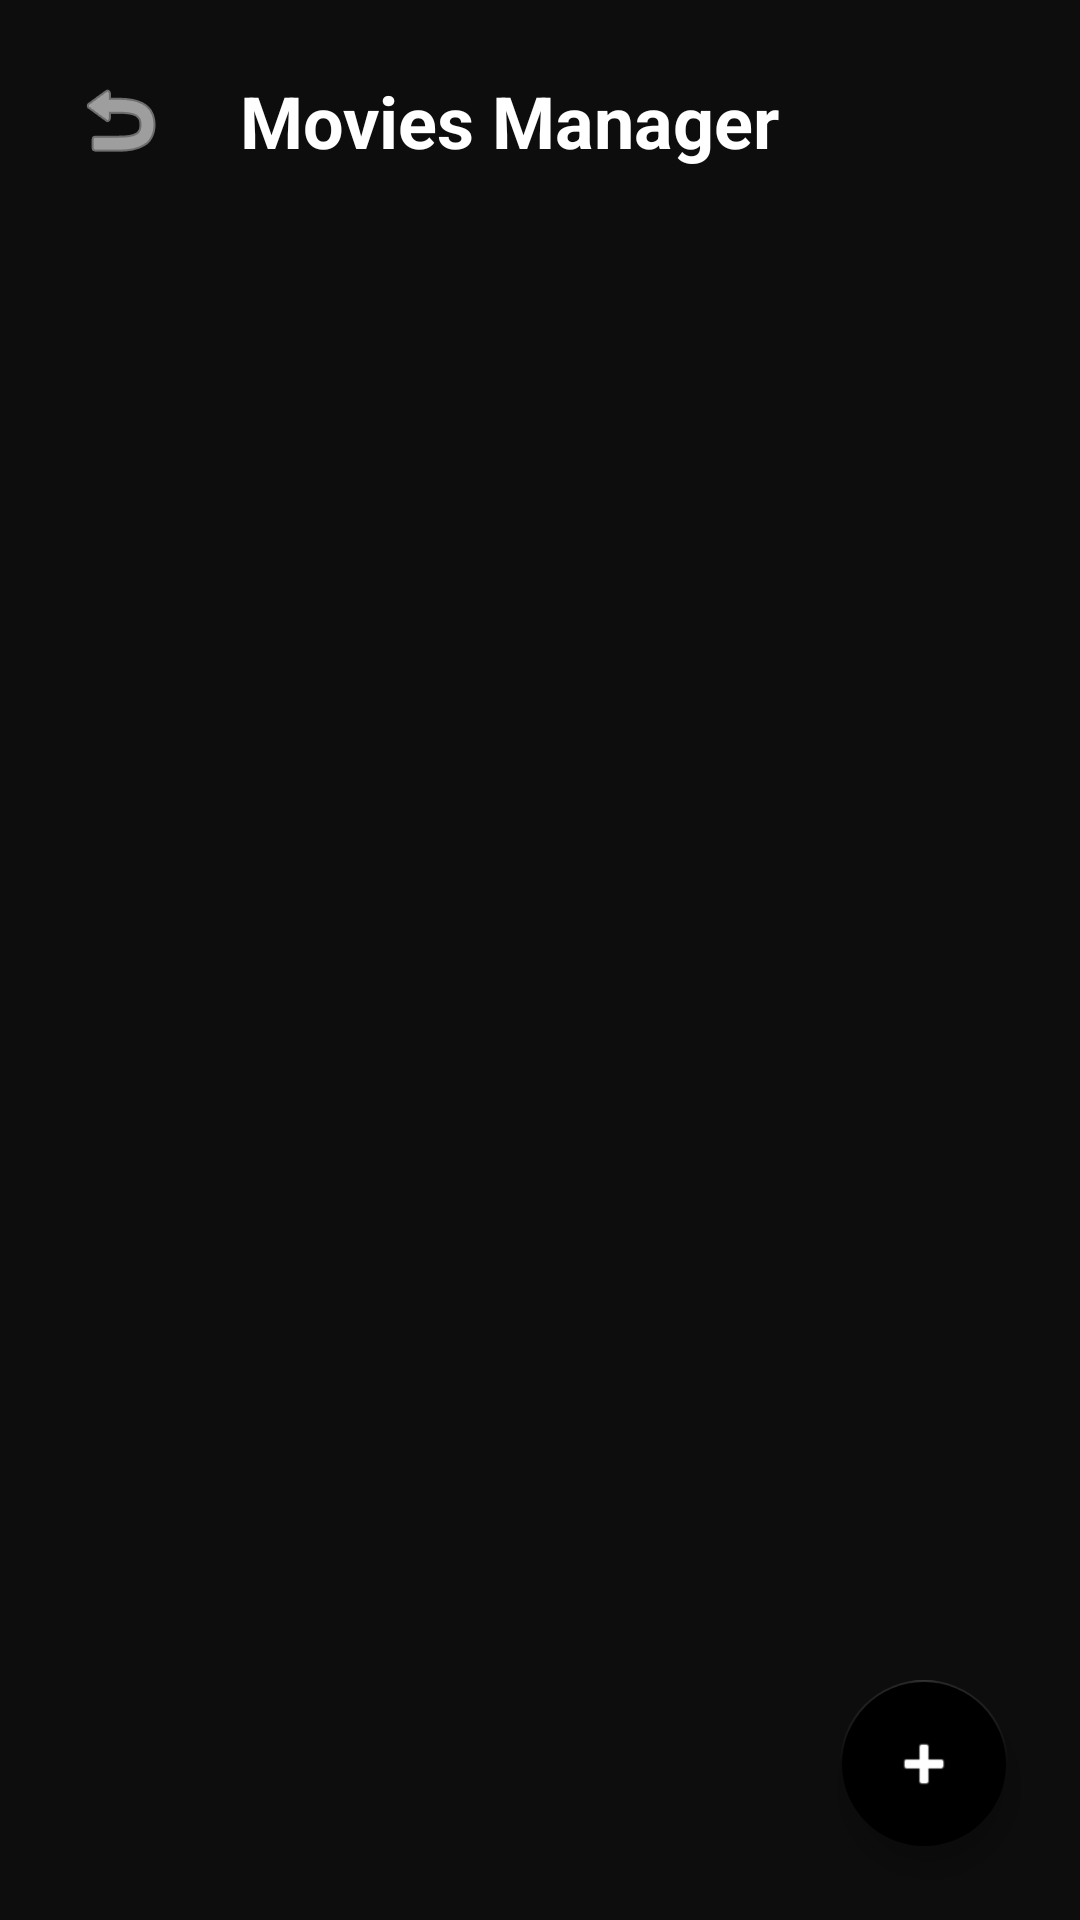

Icon click points for this 1080 × 1920 phone screenshot, format (x,y):
Add Movie: (924,1763)
Back: (121,120)
